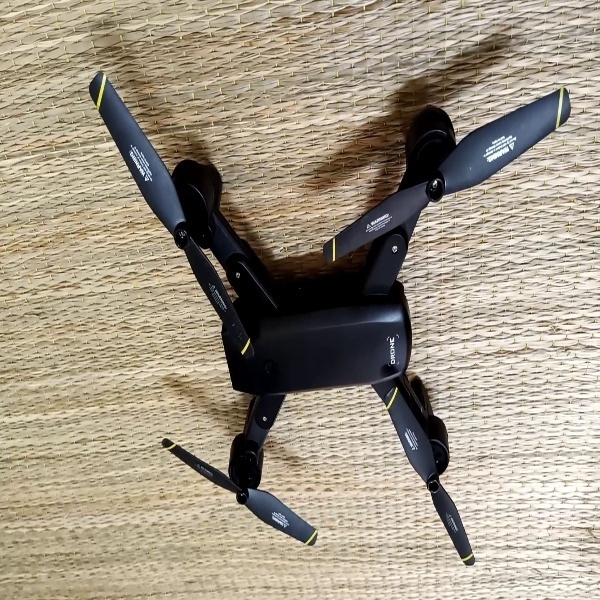drone: (85, 67, 574, 569)
